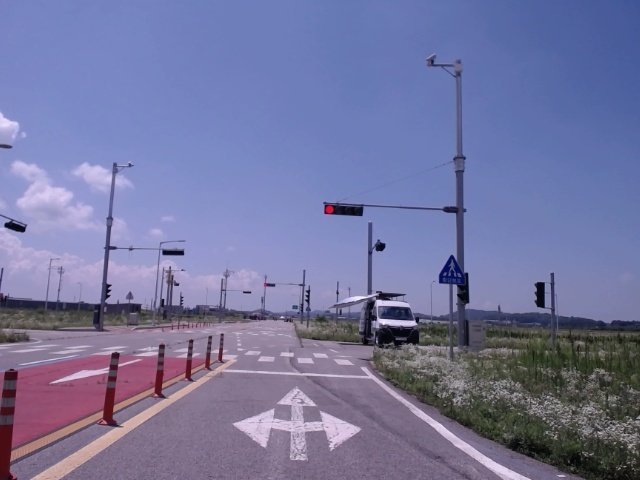red_4: (323, 204, 364, 217)
